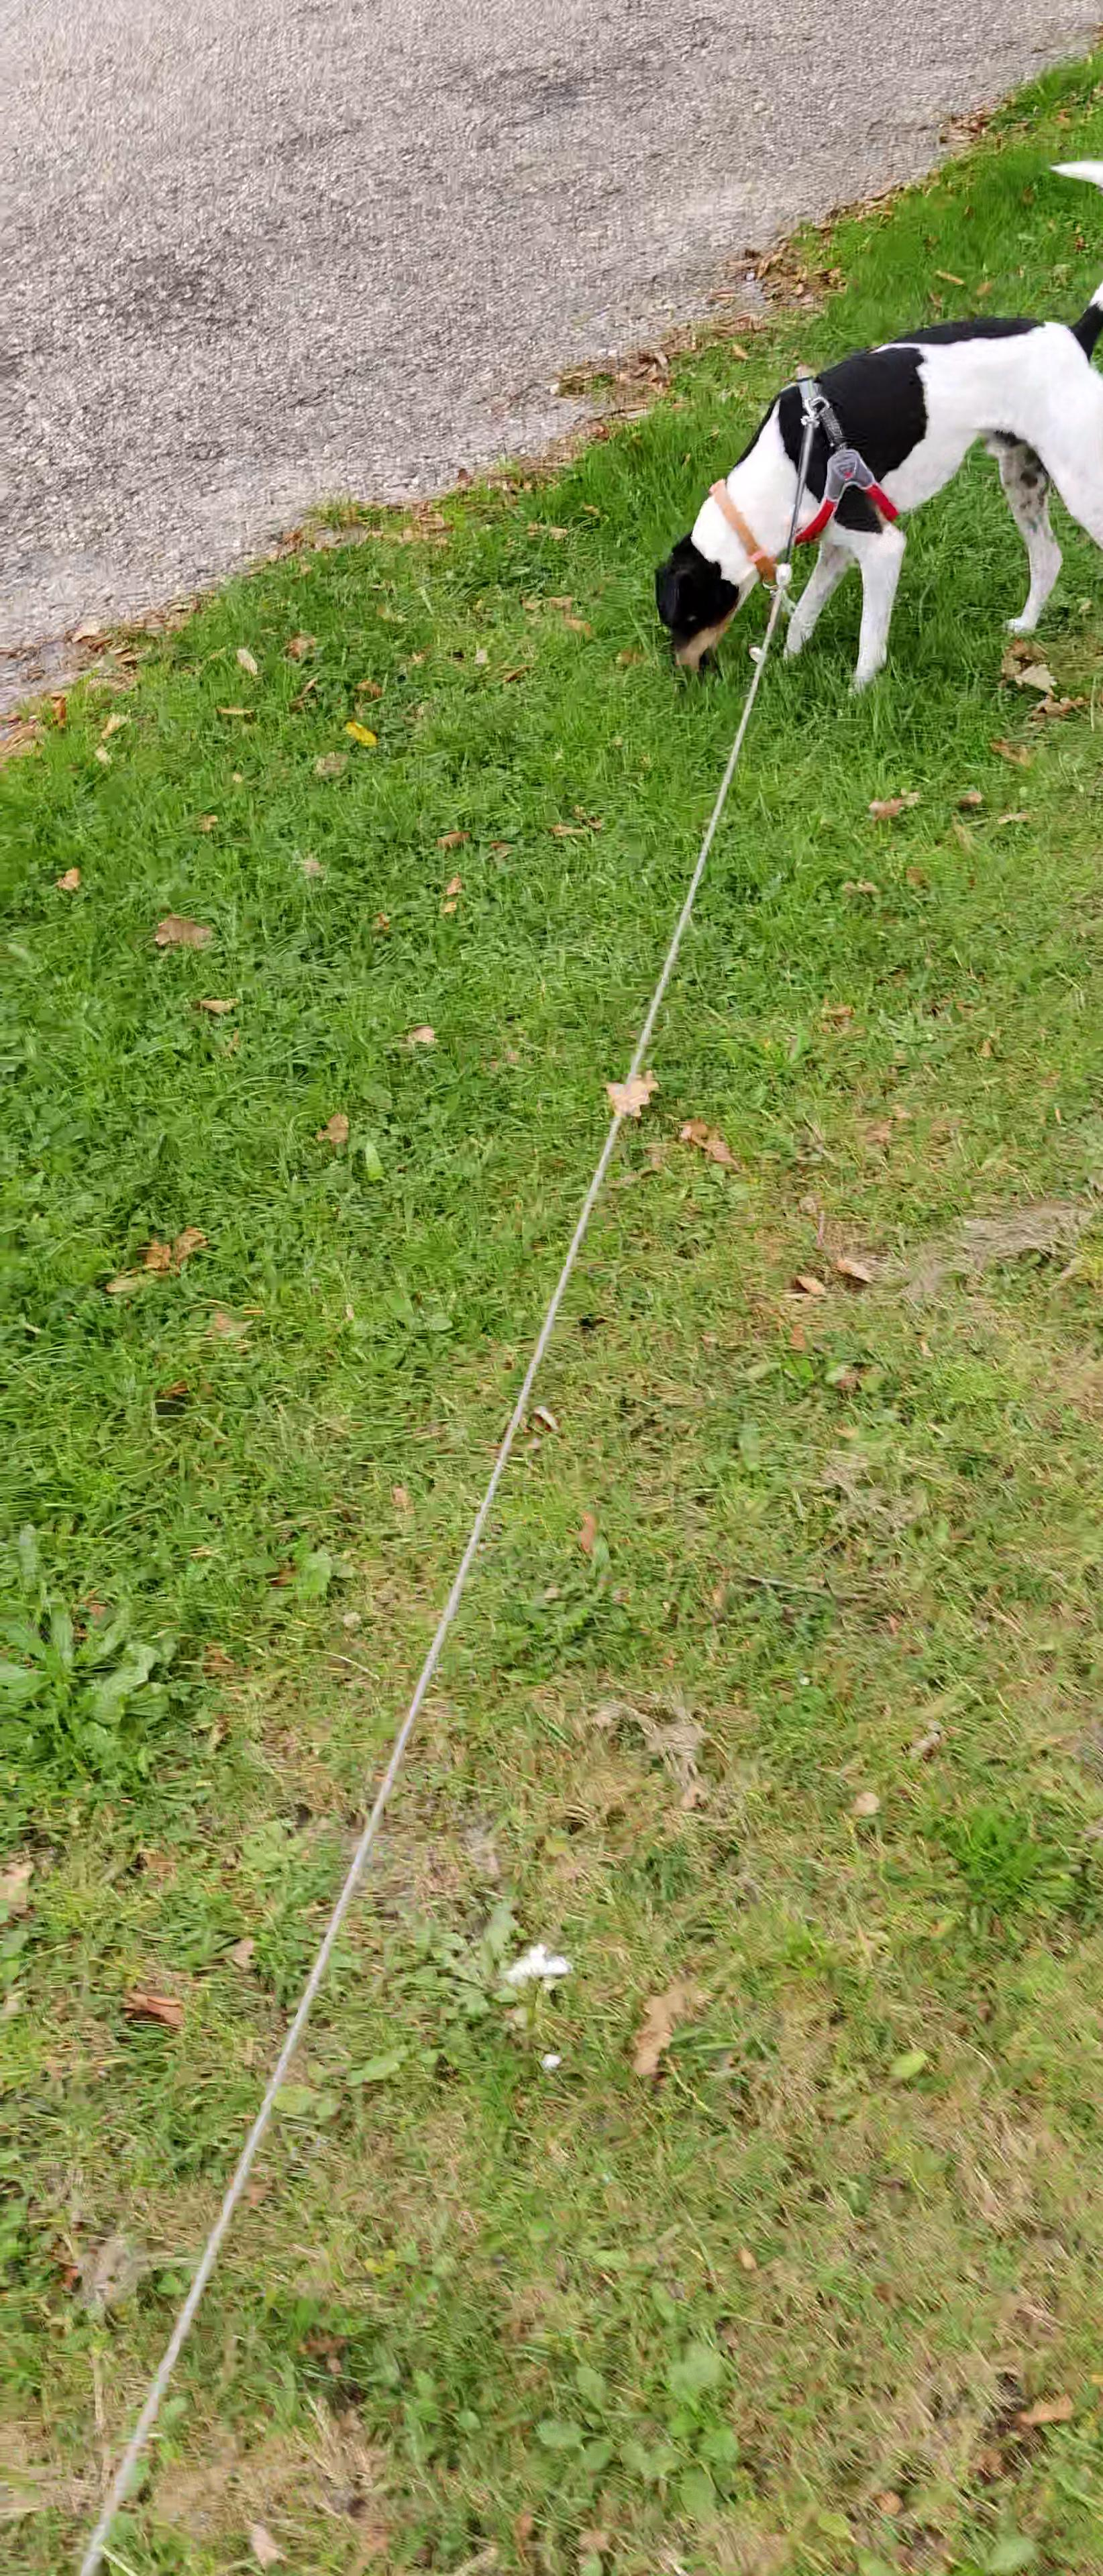Dog: (649, 153, 1103, 695)
